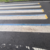zebra: (1, 1, 50, 33)
